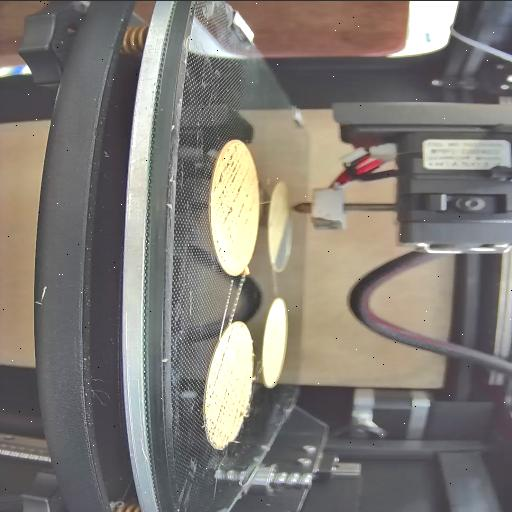under_extrusion: (212, 142, 248, 264), (210, 348, 252, 440), (222, 322, 242, 340)
